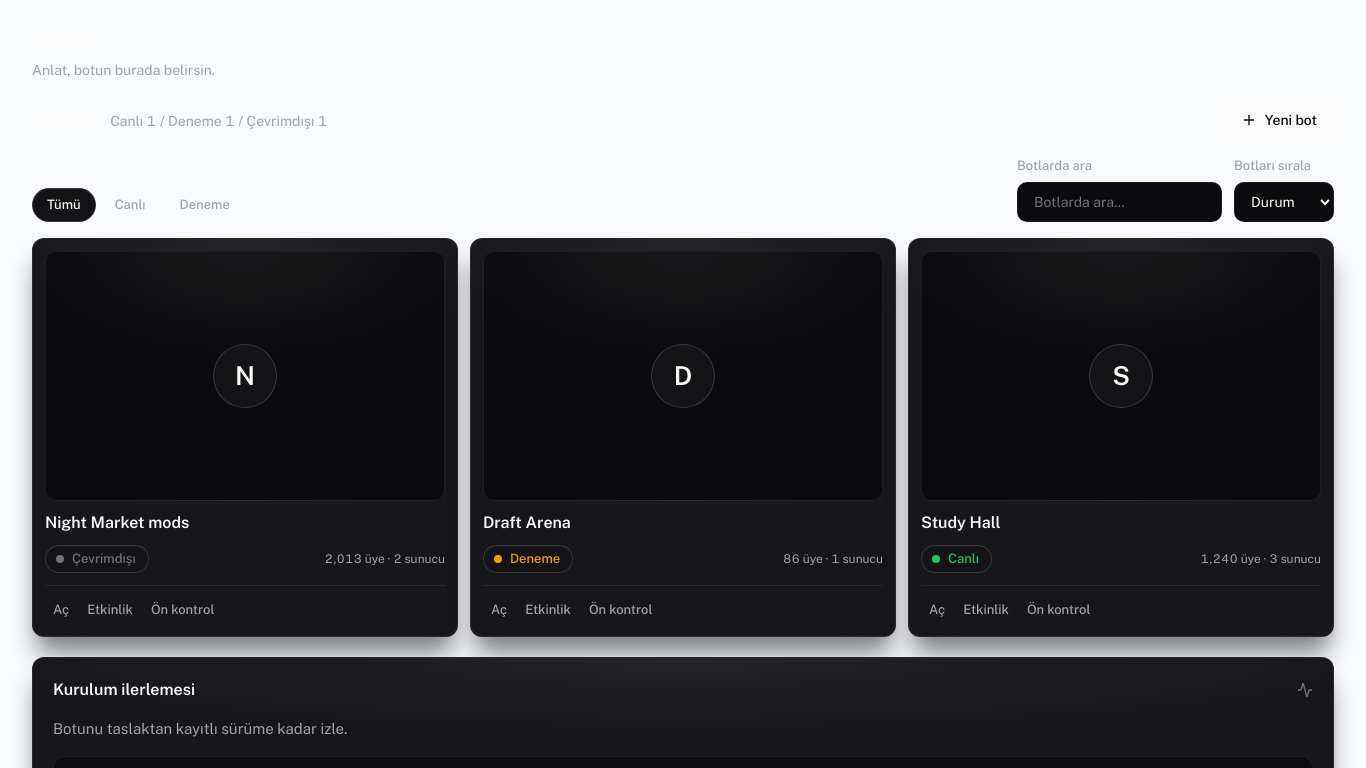
Test case: dashboard filtering and sorting on the bots page › shows a no-match state and the Clear search action restores the list
Type "zzz-no-such-bot" into the search field labelled "Botlarda ara" at [1120, 202], box [1017,182,1222,222]
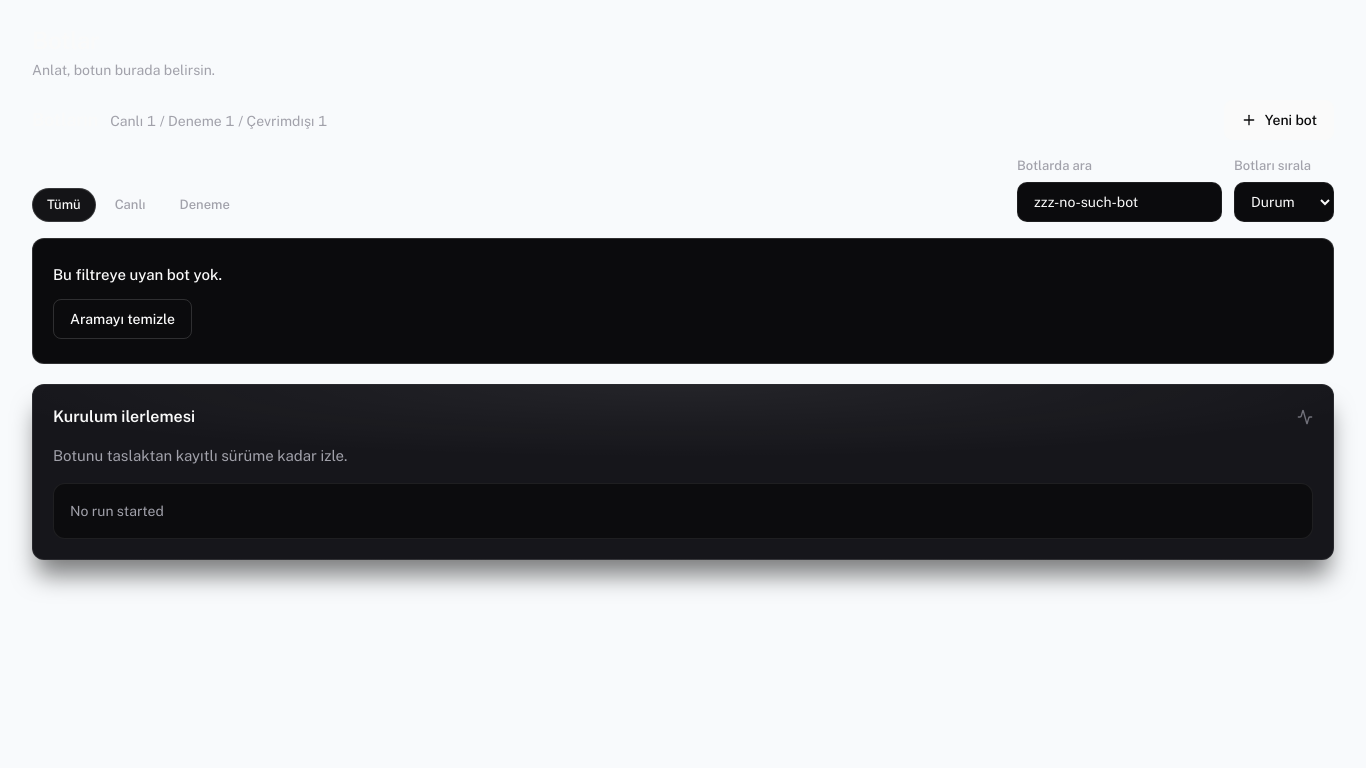
Result: the text "Bu filtreye uyan bot yok." is shown at [53,263,222,287]
Click the button "Aramayı temizle" at [122, 319], box [53,299,192,339]
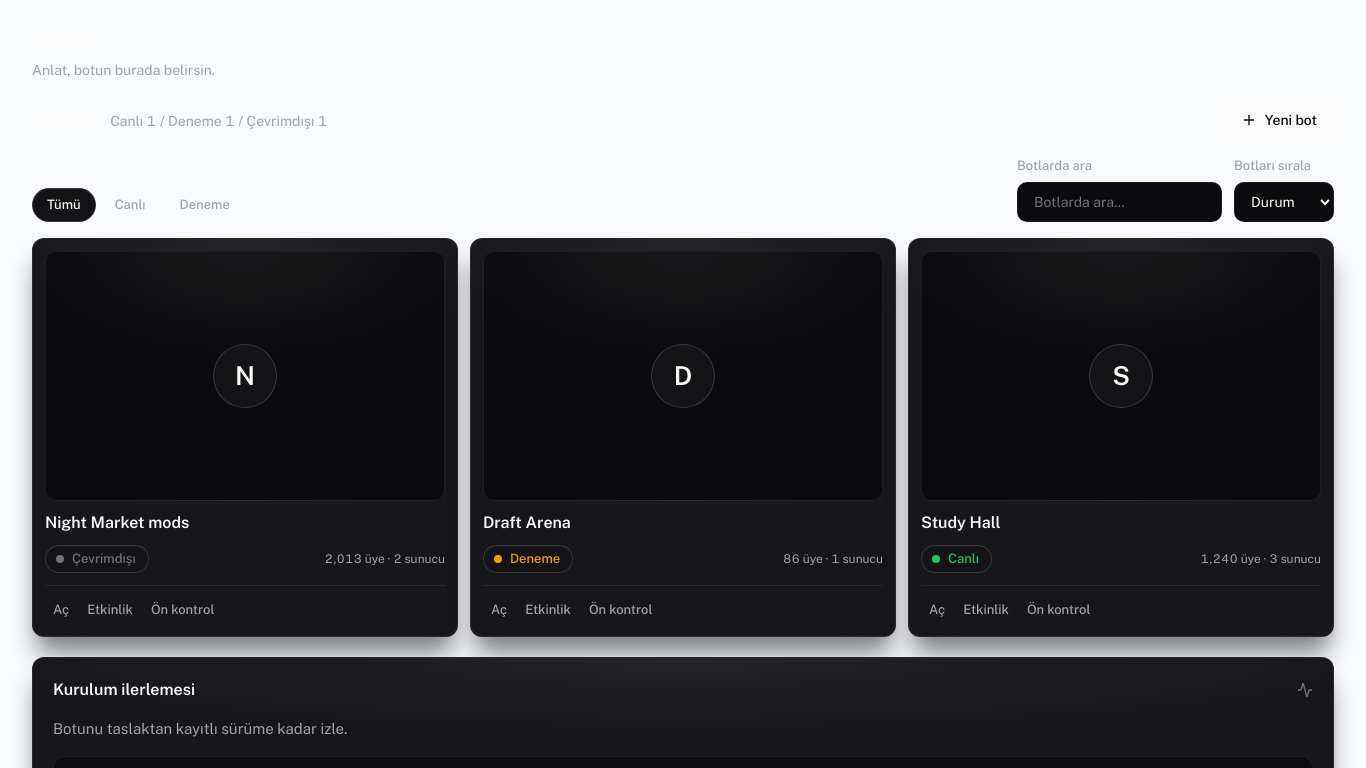
Result: the list named "Bot kartları" is shown at [32,238,1334,637]
Result: the number of list items is 3 at [32,238,458,637]; [470,238,896,637]; [908,238,1334,637]
Result: the search field labelled "Botlarda ara" is empty at [1017,182,1222,222]
